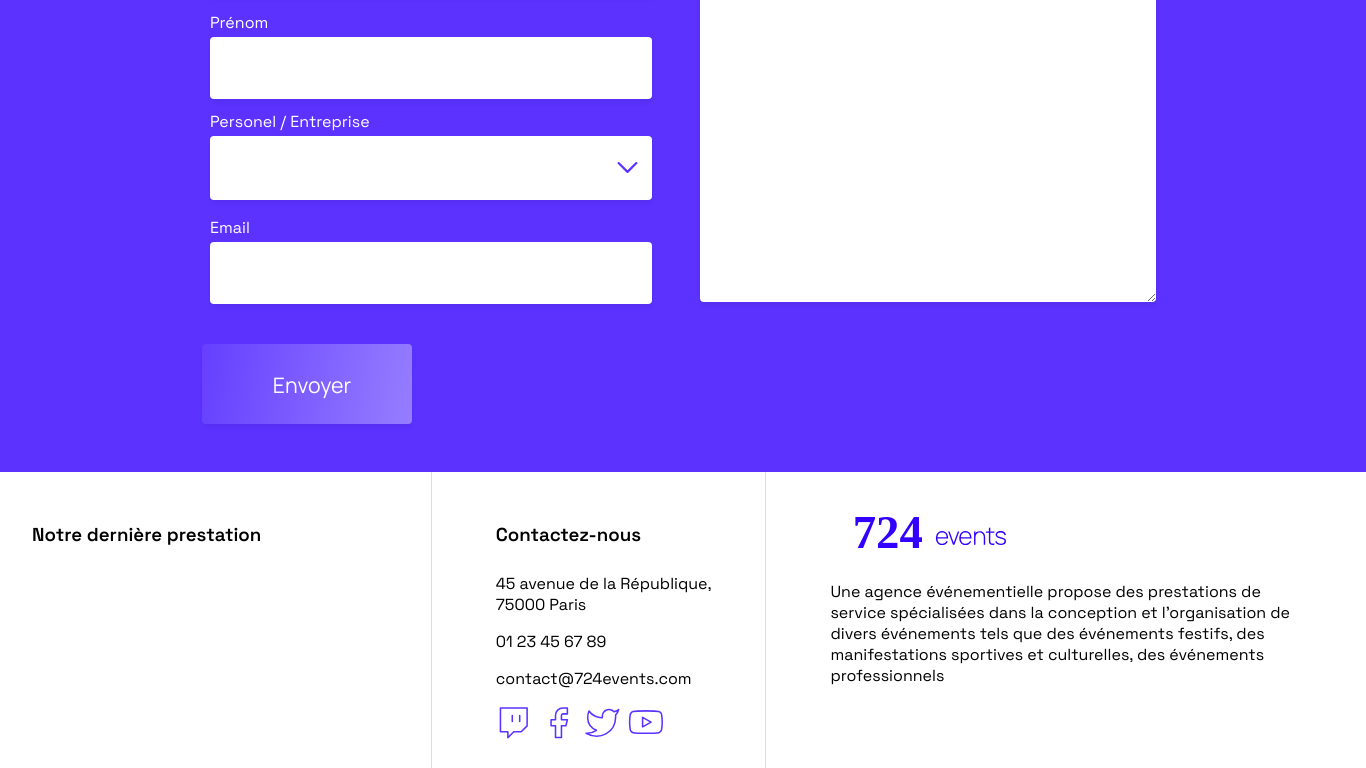
Test: When Form is created › and a click is triggered on the submit button › displays validation errors in the confirmation modal
The width and height of the screenshot is (1366, 768).
(page scrolled)
Click the button "Envoyer" at coordinates (307, 384), box [202,344,412,424]
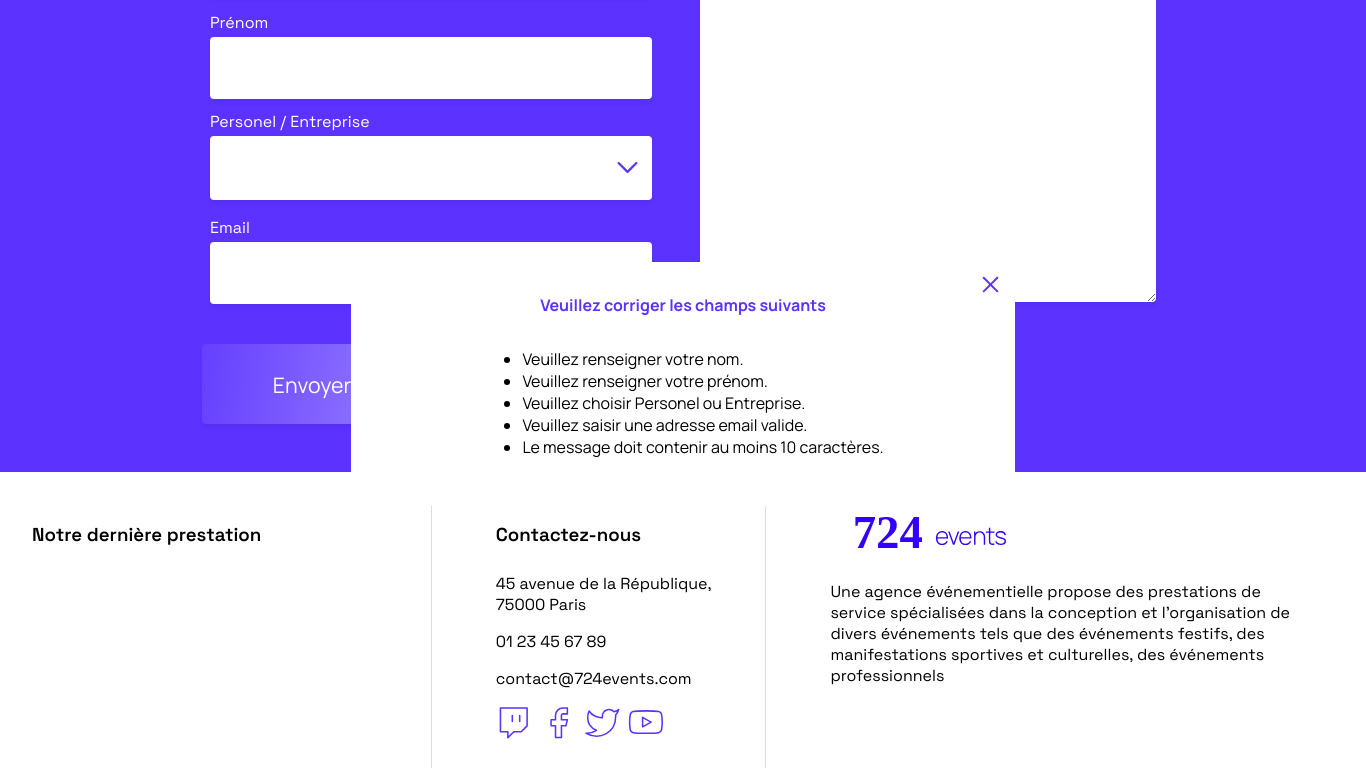
Check: the message is shown, box [351,262,1015,506]
Check: the text "Veuillez corriger les champs suivants" is shown, box [540,294,826,316]
Check: the list item "Veuillez renseigner votre nom." is shown, box [522,348,744,370]
